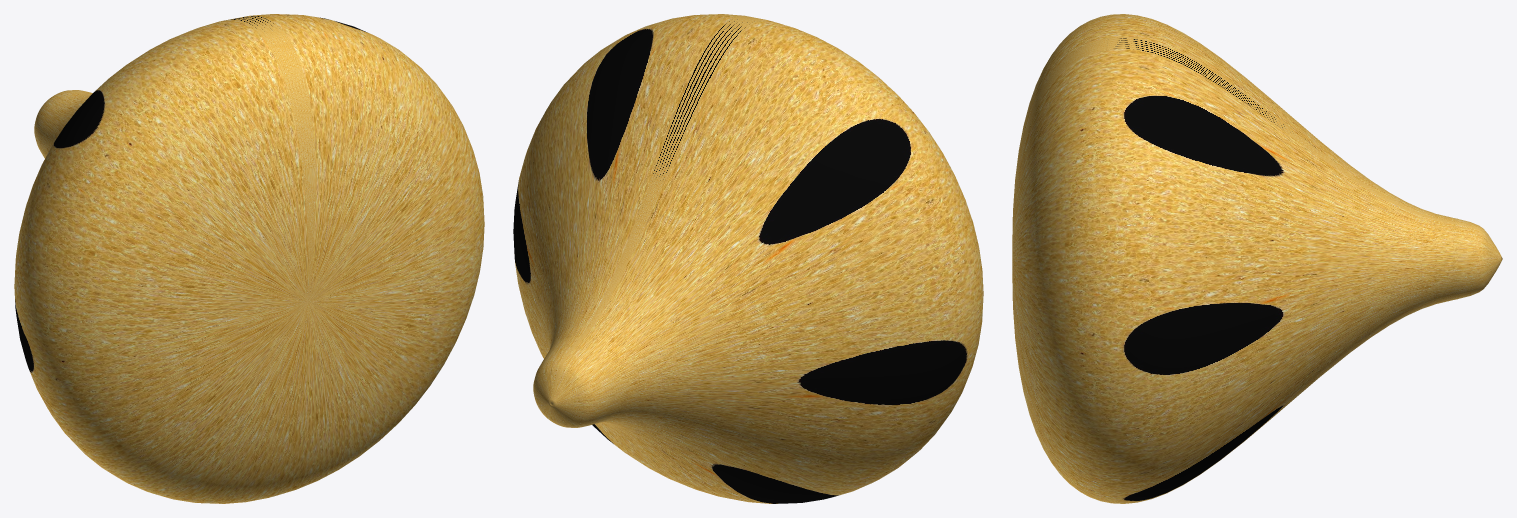
Rendered from custom_onion_bad.dae.
3 views of the same model, side by side, from view 1: azimuth 30°, elevation 25°; view 2: azimuth 150°, elevation 25°; view 3: azimuth 270°, elevation 25° (orthographic). The views are drawn at different scales.
Visible parts, largest first — view 1: new_custom_onion; view 2: new_custom_onion; view 3: new_custom_onion.
Part boxes in pixels (<box>): new_custom_onion: <box>14,14,484,503</box>; new_custom_onion: <box>513,14,983,503</box>; new_custom_onion: <box>1012,14,1502,503</box>.
Size of the model in its own units: 0.0902 by 0.0903 by 0.0902.
Materials: 1 (1 with a texture image).
